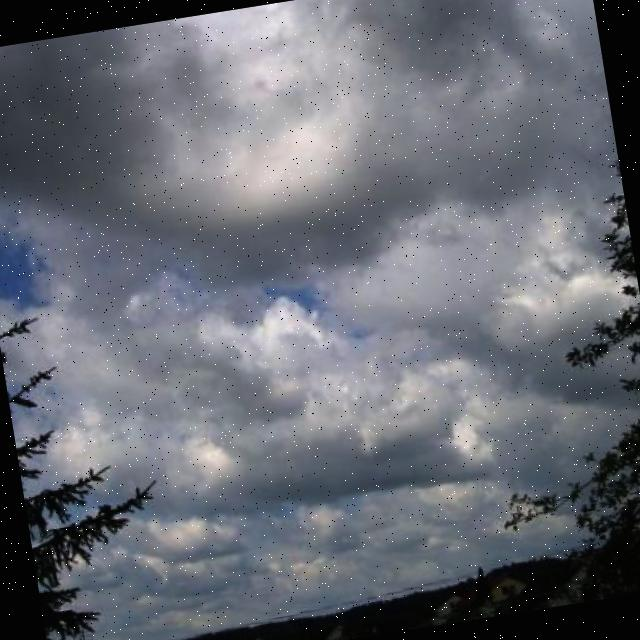Cu: (1, 1, 626, 299)
